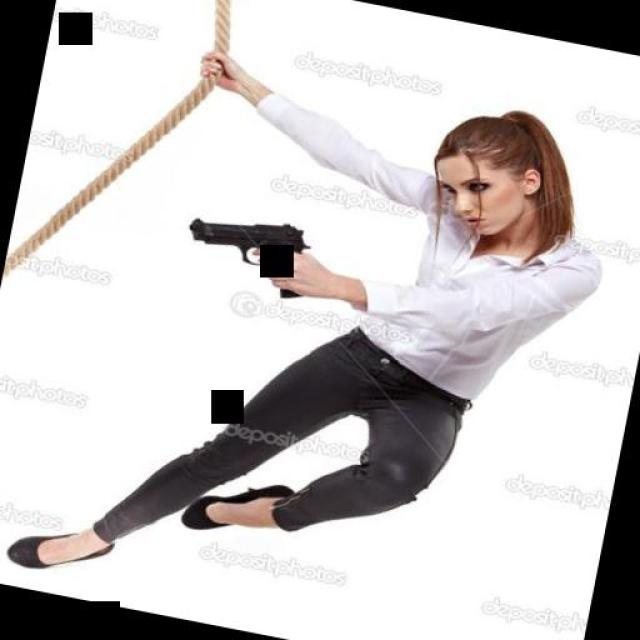gun: (175, 201, 320, 305)
